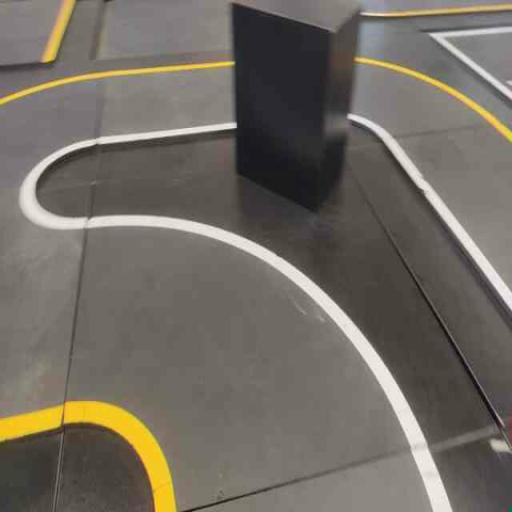left: (53, 188, 464, 511)
